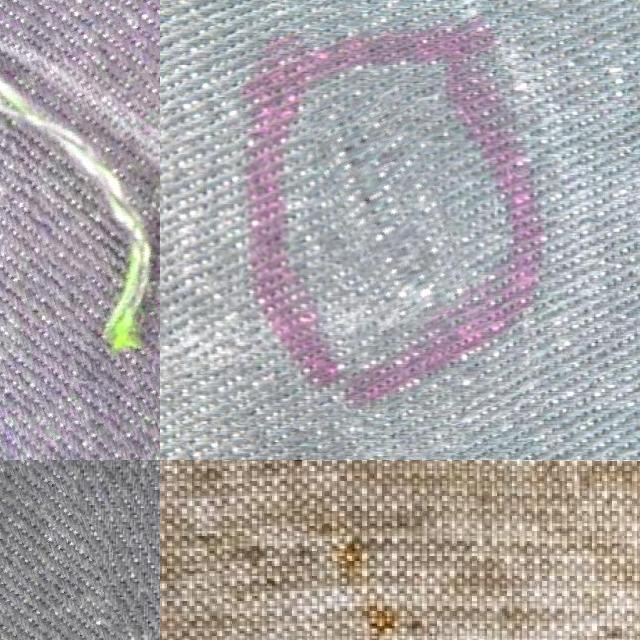Thread_other: (322, 88, 456, 326), (0, 460, 159, 640)
